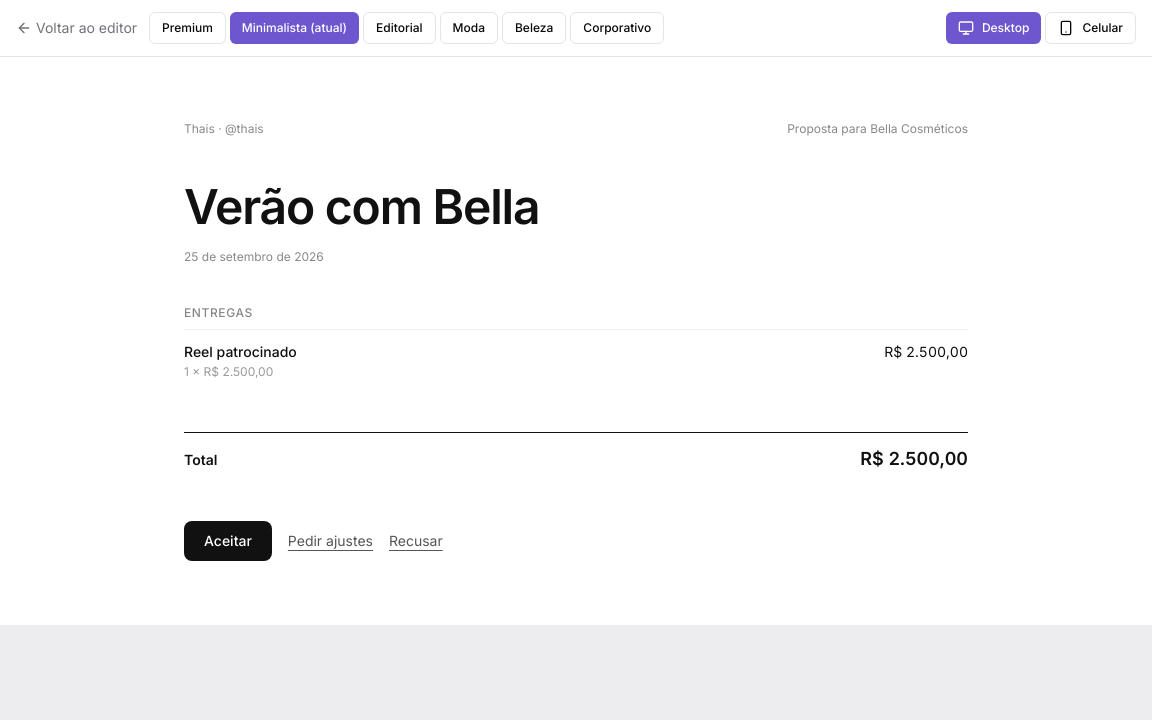
Test: PreviewShell › applies the theme through the existing mutation and makes it current
Click the button "Premium" at (187, 28), box [149, 12, 226, 44]
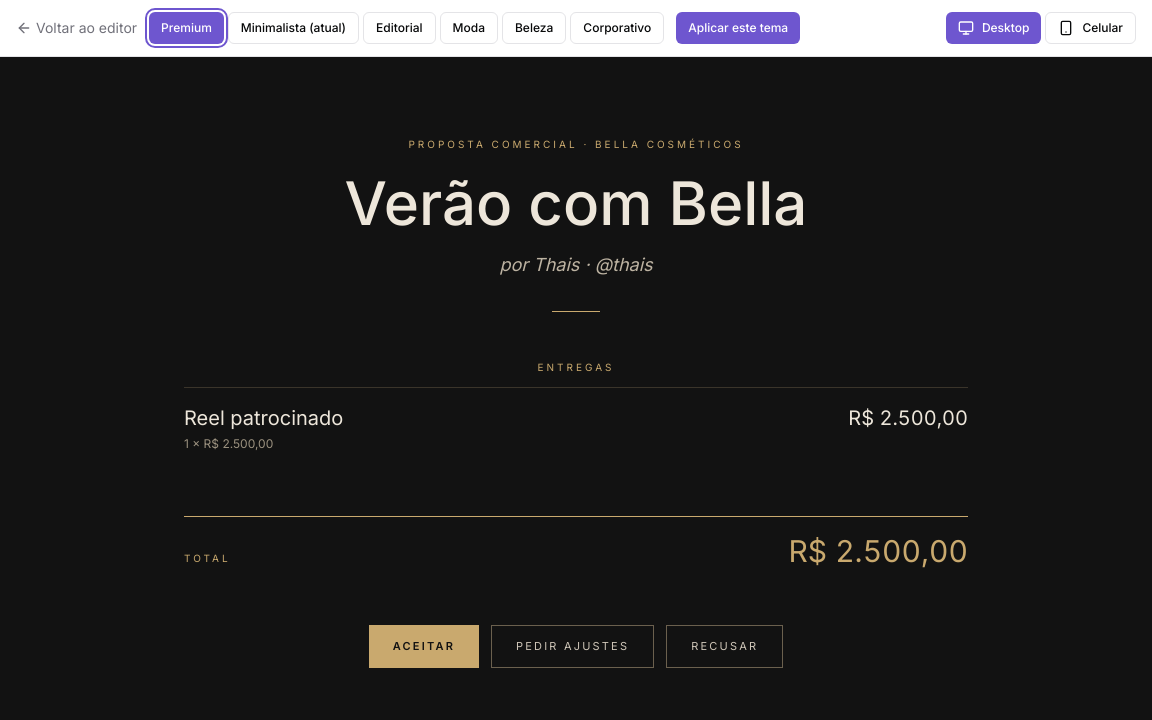
Click the button "Aplicar este tema" at (738, 28), box [676, 12, 800, 44]
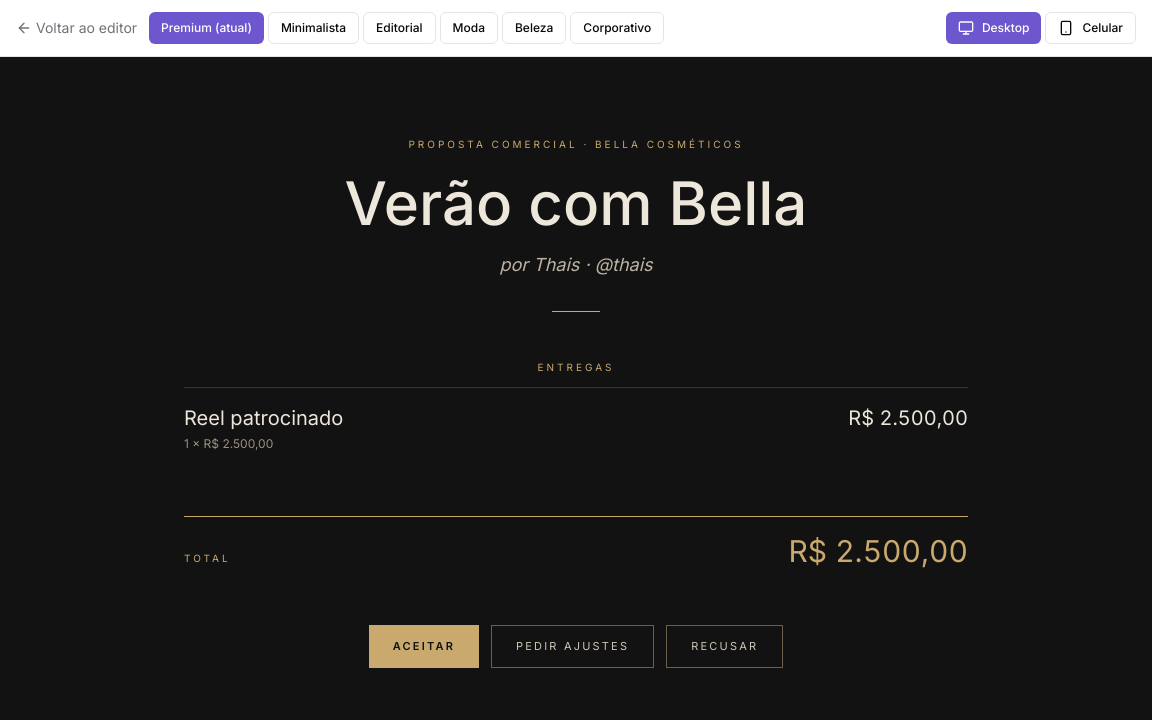
Expected: the button "Premium (atual)" is shown, [149, 12, 264, 44]
Expected: the button "Aplicar este tema" is gone
